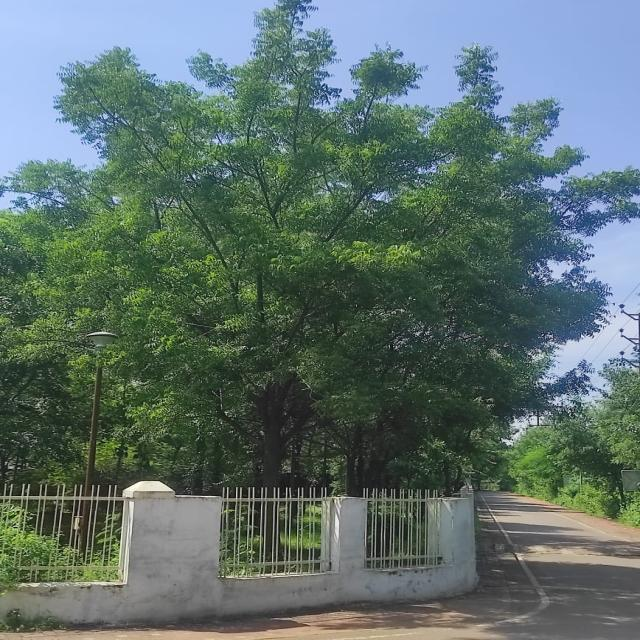Neem Tree: (70, 29, 564, 429)
